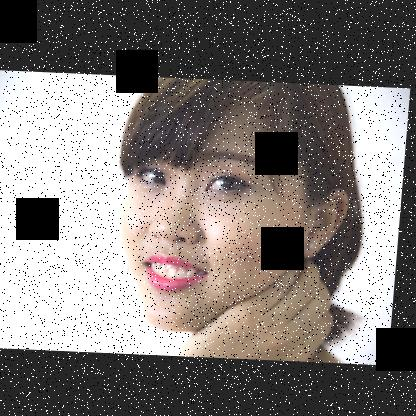Female: (115, 91, 357, 334)
